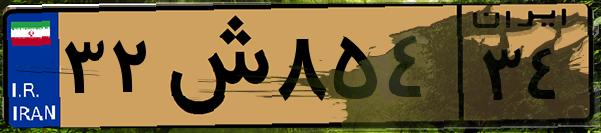2: (110, 28, 158, 98)
3: (57, 26, 110, 100), (475, 38, 525, 113)
4: (385, 28, 445, 110), (525, 38, 570, 115)
5: (330, 28, 385, 110)
8: (270, 28, 330, 110)
ش: (158, 12, 270, 120)
